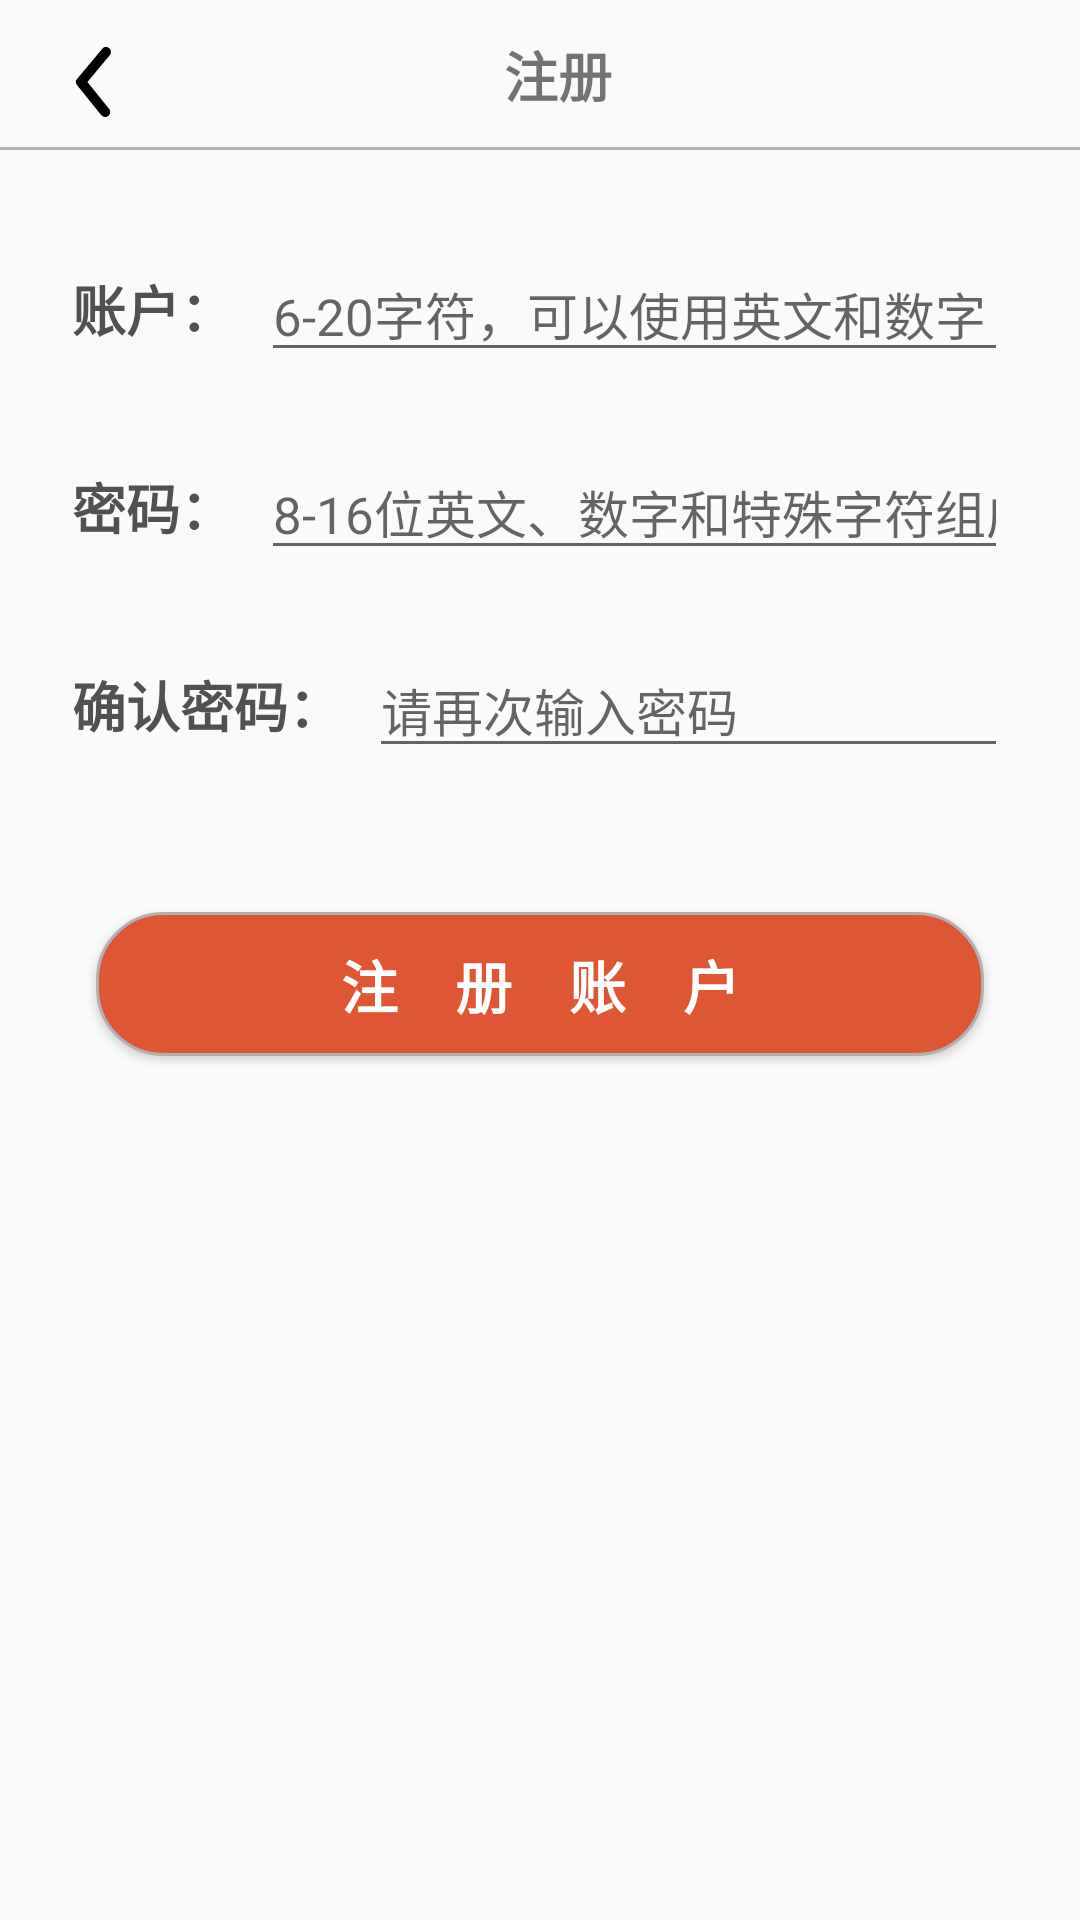

Named icons in this screenshot (1080 x 1920) and their bounding boxes, box(x1, y1, x2, y2):
back: box(75, 47, 111, 117)
